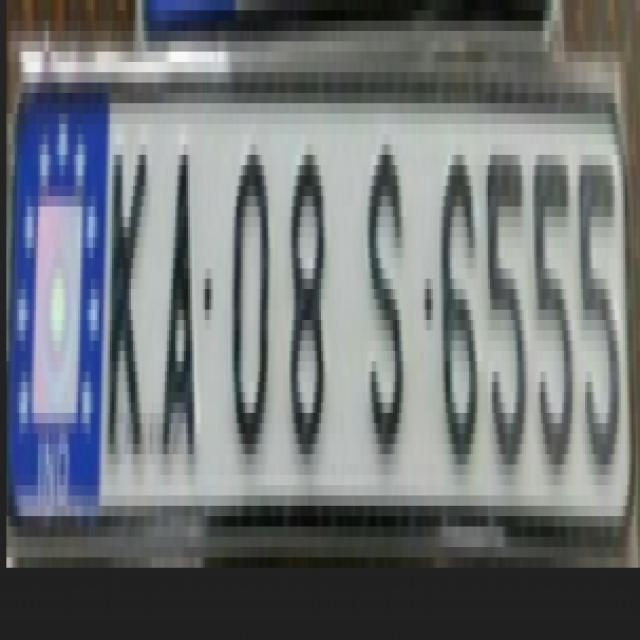0: (228, 128, 274, 490)
5: (532, 119, 578, 528), (580, 125, 626, 516), (487, 113, 529, 533)
6: (436, 107, 484, 516)
8: (282, 120, 331, 510)
A: (160, 135, 202, 508)
K: (108, 132, 150, 493)
S: (364, 113, 414, 506)
